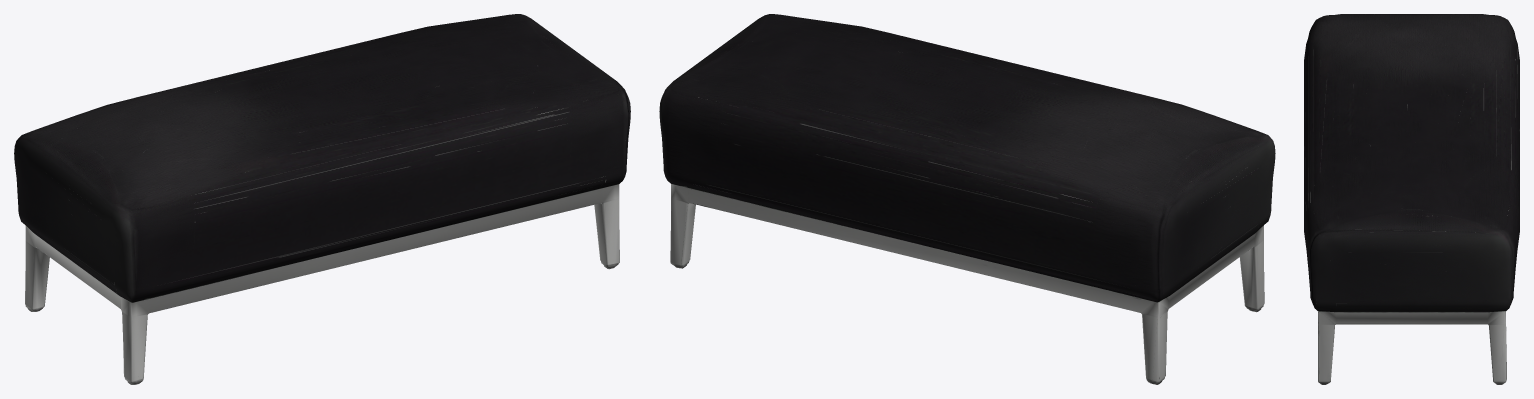
The model's file is SIGNATURE_Bench_Blac_0403043132_texture.glb.
The picture shows the model from 3 angles, left to right: view 1: azimuth 30°, elevation 25°; view 2: azimuth 150°, elevation 25°; view 3: azimuth 270°, elevation 25°; orthographic projection. The views are drawn at different scales.
Visible parts, largest first — view 1: Mesh_0.002; view 2: Mesh_0.002; view 3: Mesh_0.002.
Part boxes in pixels (box(x1,y1,x2,y2)): Mesh_0.002: box(14, 14, 630, 384); Mesh_0.002: box(659, 14, 1275, 384); Mesh_0.002: box(1304, 14, 1519, 384).
Bounding box in the file's own units: 1.23 × 0.4572 × 0.5077.
1 material, 1 textured.
